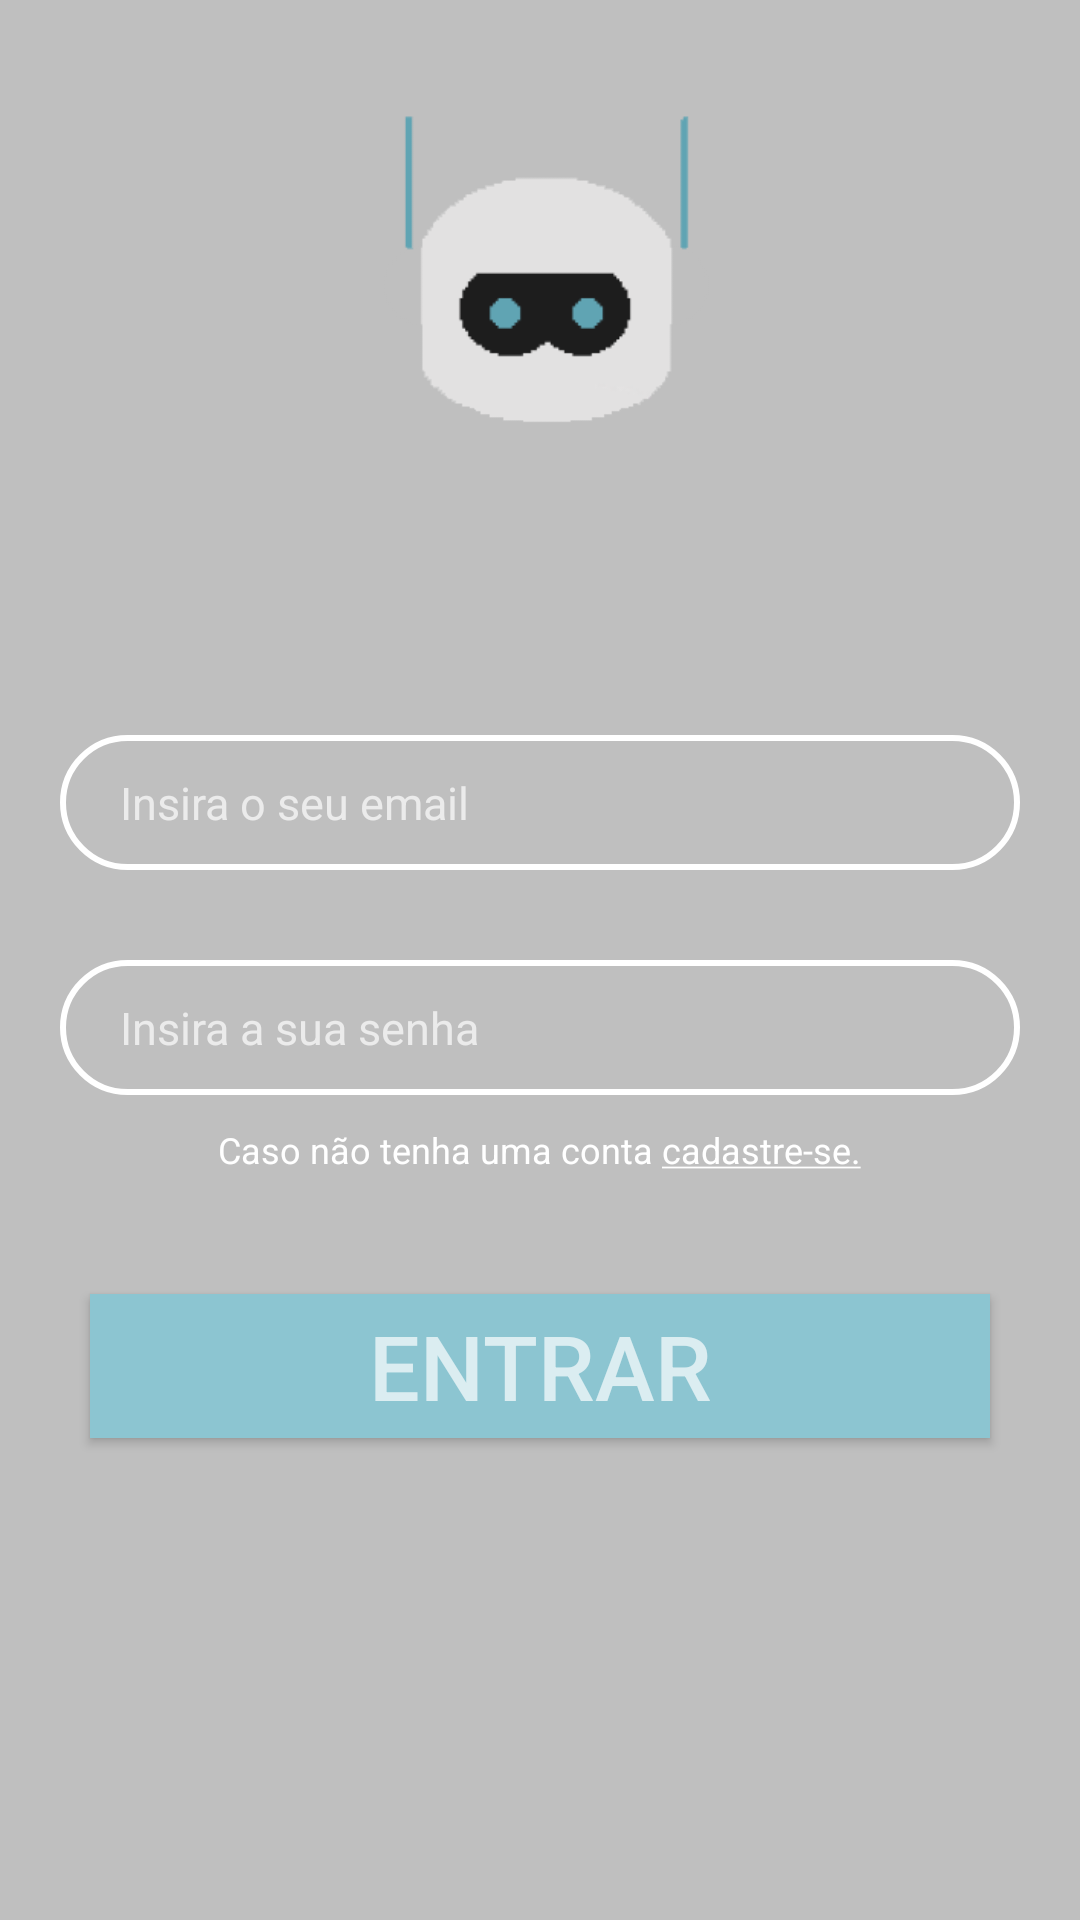

Icon bounding boxes for this 1080 × 1920 phone screenshot, format (left=x1, top=y1, right=x2, bottom=y2):
cabeca: (left=405, top=116, right=688, bottom=422)
